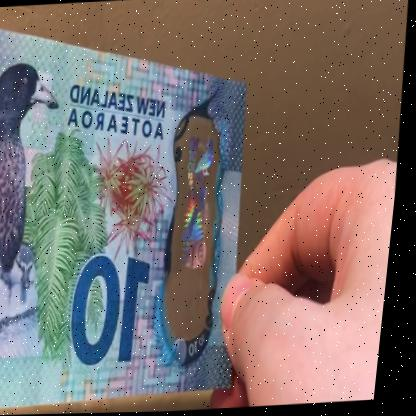10F: (169, 132, 228, 320)
